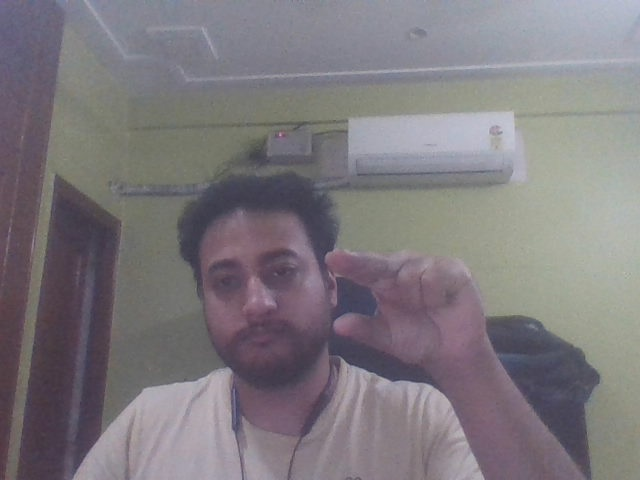No: (312, 233, 528, 395)
